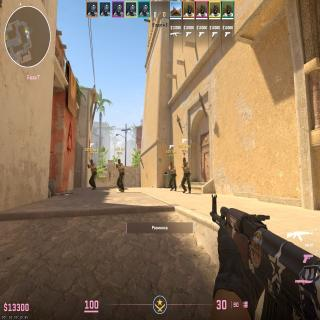T-Body: (181, 157, 191, 191), (116, 159, 125, 190), (88, 159, 96, 187), (168, 162, 176, 189)
T-Head: (183, 157, 186, 163), (90, 159, 93, 164), (118, 158, 120, 164), (170, 162, 172, 166)
